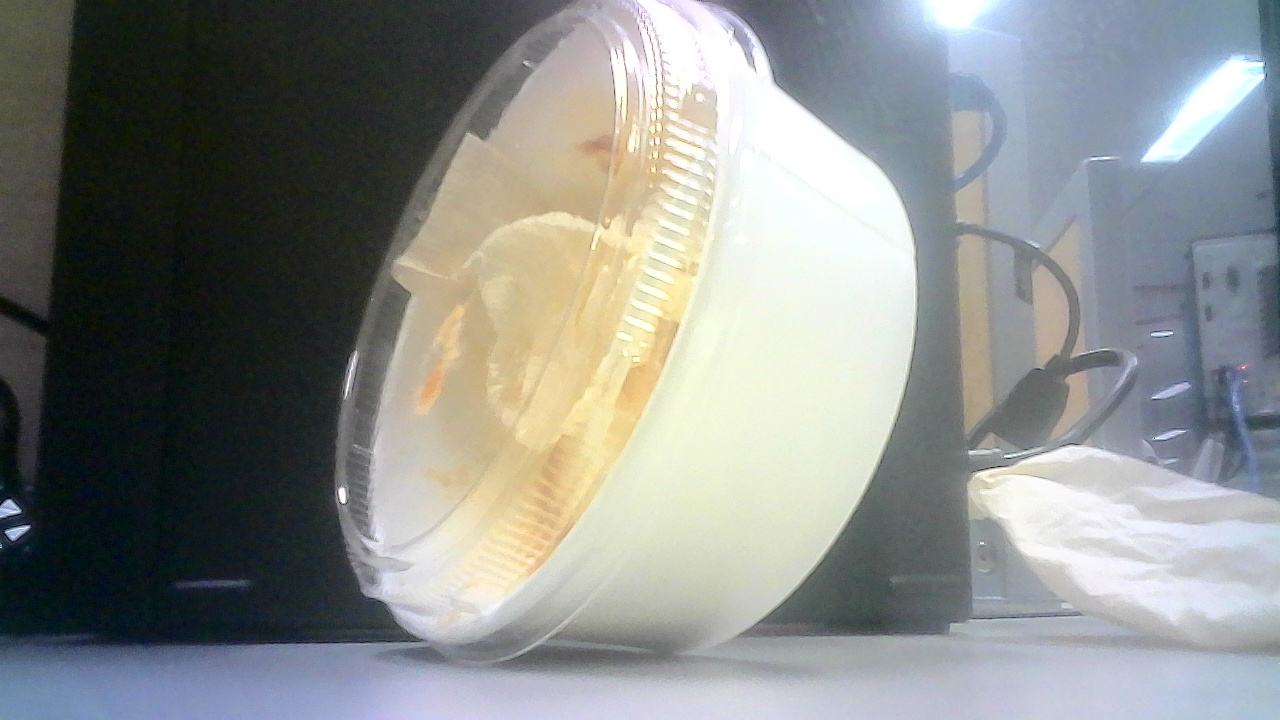Undefined_Waste: (334, 12, 938, 648)
